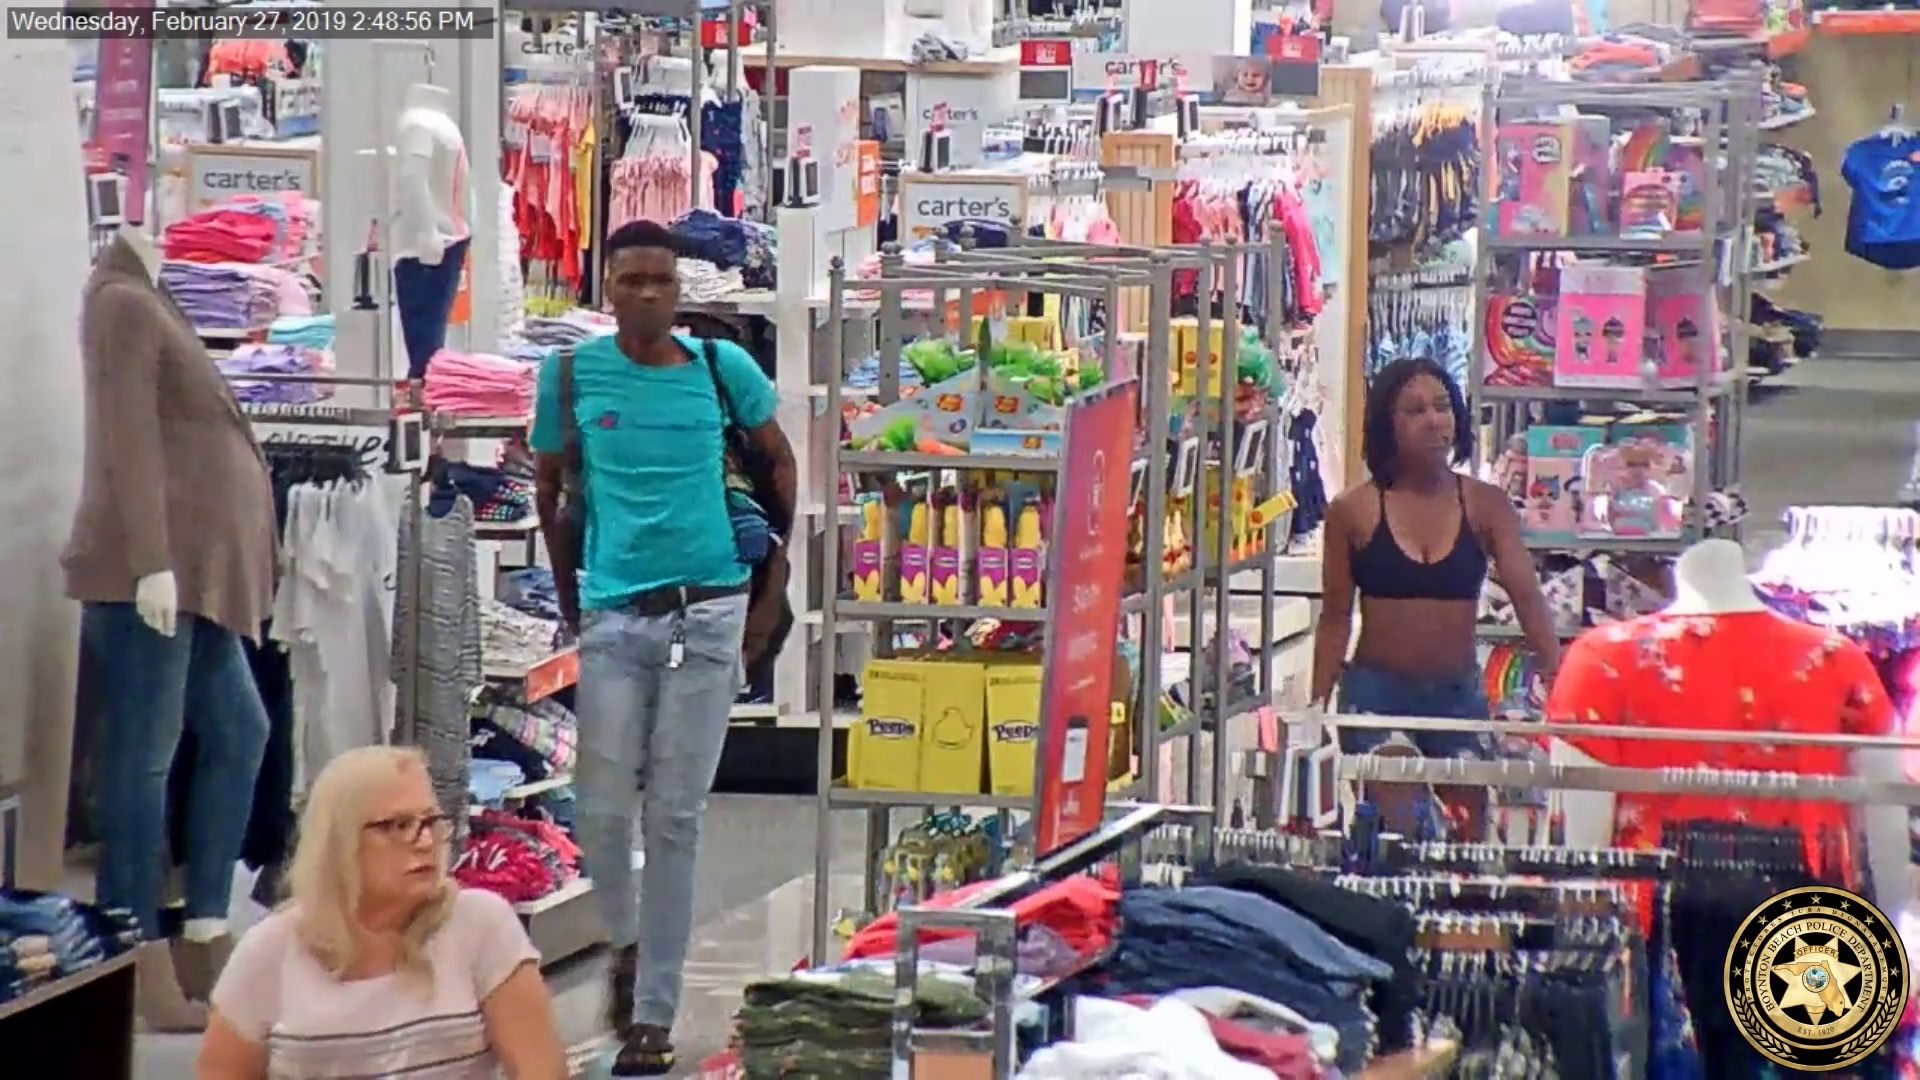face: (334, 768, 467, 908), (1397, 377, 1470, 466), (612, 246, 679, 333)
